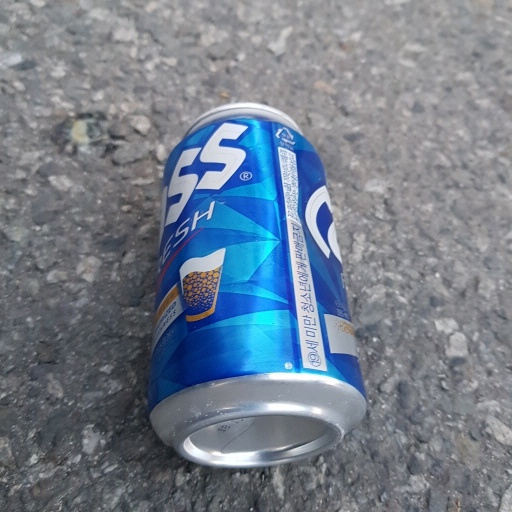Metal_0: (144, 102, 368, 468)
